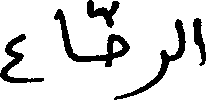ا: (52, 6, 73, 61), (191, 15, 204, 66)
ر: (126, 41, 166, 97)
ض: (84, 19, 127, 69)
ع: (0, 31, 43, 83)
ل: (173, 17, 183, 62)
